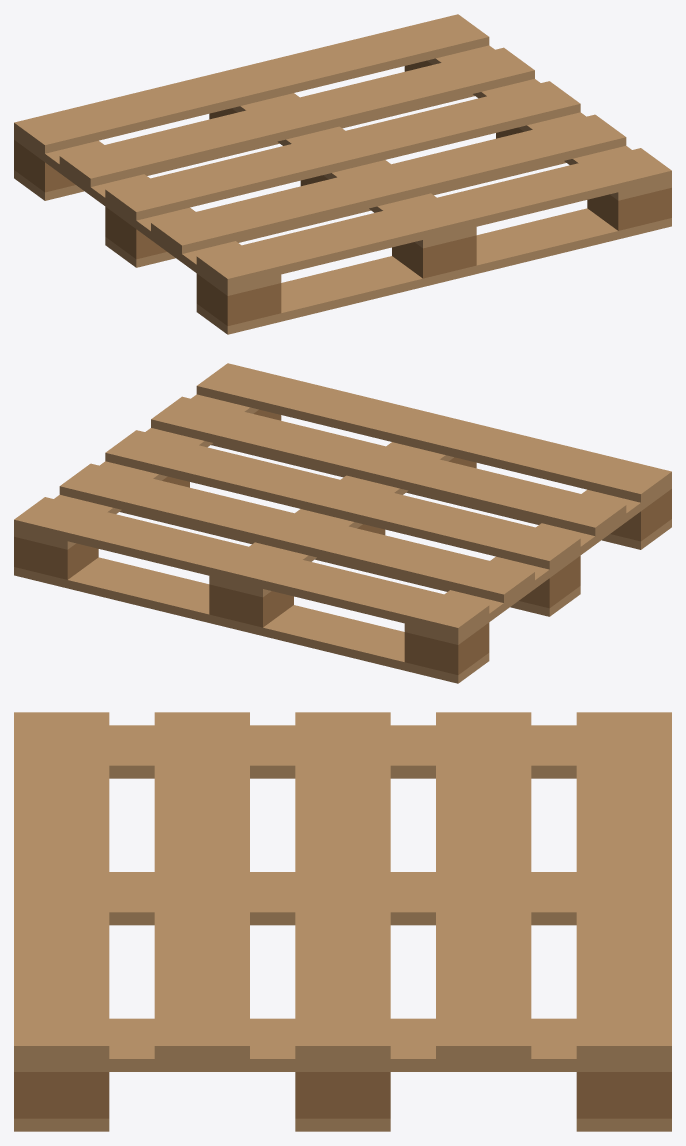
Rendered from palete.glb.
3 renders of one model, top to bottom at view 1: azimuth 30°, elevation 25°; view 2: azimuth 150°, elevation 25°; view 3: azimuth 270°, elevation 25°, orthographic. The views are drawn at different scales.
Visible parts, largest first — view 1: palete; view 2: palete; view 3: palete.
Part boxes in pixels (x1=…): palete: x1=14, y1=14, x2=671, y2=334; palete: x1=14, y1=363, x2=671, y2=683; palete: x1=14, y1=712, x2=671, y2=1131.
Bounding box in the file's own units: 1.2 × 0.144 × 1.
